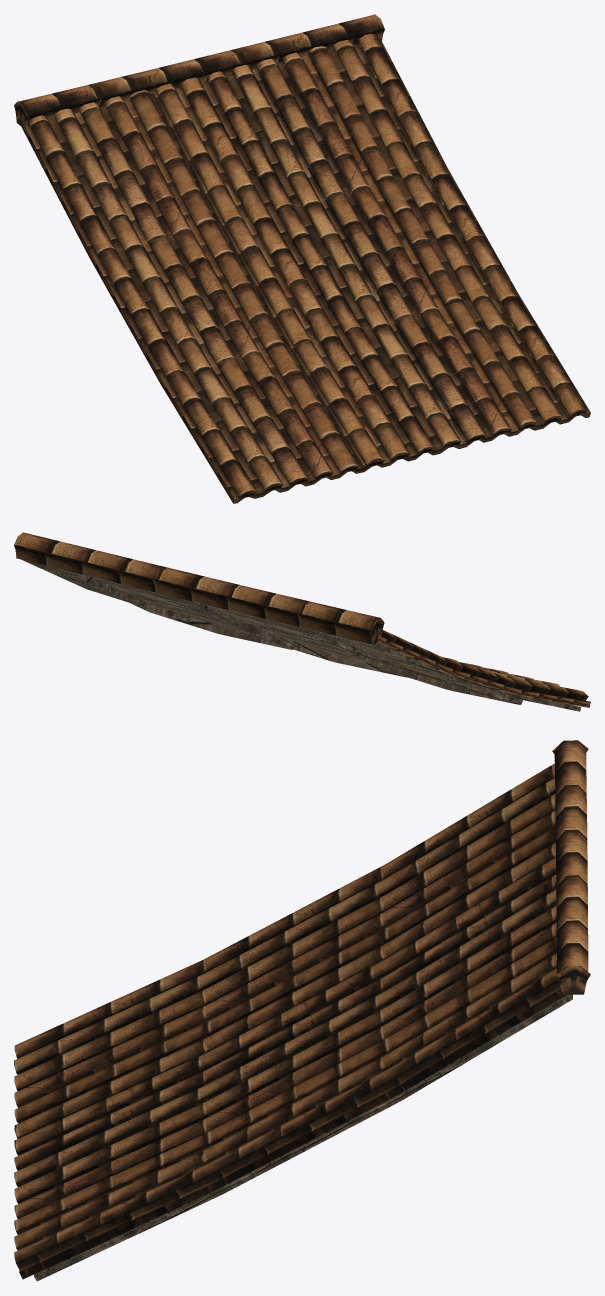
Rendered from OldHouseRoofTileBeigeSide.obj.
3 views of the same model, one above another, from view 1: azimuth 30°, elevation 25°; view 2: azimuth 150°, elevation 25°; view 3: azimuth 270°, elevation 25° (orthographic). The views are drawn at different scales.
Parts seen in each view (by area): view 1: Line02, Line01, Object01; view 2: Line01, Box06, Line02, Box03, Box09, Box08, Object03; view 3: Line02, Line01, Box06, Object03.
Part boxes in pixels (x1,y1,x2,y2): Line02: [20, 33, 590, 503]; Line01: [19, 14, 383, 125]; Object01: [233, 409, 590, 503]; Line01: [15, 532, 379, 644]; Box06: [22, 560, 580, 711]; Line02: [377, 630, 590, 707]; Box03: [315, 632, 523, 704]; Box09: [86, 576, 292, 649]; Box08: [200, 604, 406, 677]; Object03: [14, 536, 384, 644]; Line02: [14, 763, 566, 1279]; Line01: [554, 740, 588, 973]; Box06: [34, 994, 572, 1281]; Object03: [552, 740, 590, 994].
Bounding box in the file's own units: 4.21 × 2.8 × 4.56.
Materials: 3 (3 with a texture image).
